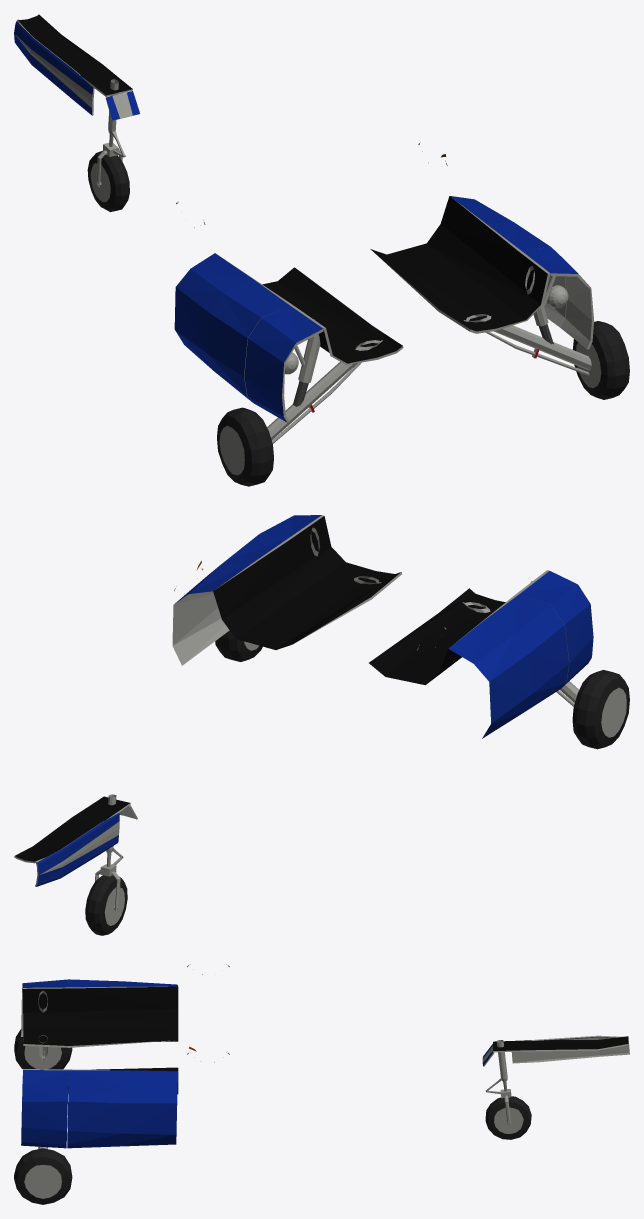
The model's file is Gear_T4_BlueimpulseNG.obj.
3 views of the same model, one above another, from view 1: azimuth 30°, elevation 25°; view 2: azimuth 150°, elevation 25°; view 3: azimuth 270°, elevation 25° (orthographic). The views are drawn at different scales.
Visible parts, largest first — view 1: ShapeIndexedFaceSet.056_ShapeIndexedFaceSet.057, ShapeIndexedFaceSet.071_ShapeIndexedFaceSet.072, ShapeIndexedFaceSet.069_ShapeIndexedFaceSet.070, ShapeIndexedFaceSet.057_ShapeIndexedFaceSet.058, ShapeIndexedFaceSet.061_ShapeIndexedFaceSet.062, ShapeIndexedFaceSet.058_ShapeIndexedFaceSet.059, ShapeIndexedFaceSet.062_ShapeIndexedFaceSet.063, ShapeIndexedFaceSet.074_ShapeIndexedFaceSet.075, ShapeIndexedFaceSet.086_ShapeIndexedFaceSet.087, ShapeIndexedFaceSet.075_ShapeIndexedFaceSet.076, ShapeIndexedFaceSet.055_ShapeIndexedFaceSet.056, ShapeIndexedFaceSet.081_ShapeIndexedFaceSet.082 (+3 smaller); view 2: ShapeIndexedFaceSet.056_ShapeIndexedFaceSet.057, ShapeIndexedFaceSet.071_ShapeIndexedFaceSet.072, ShapeIndexedFaceSet.069_ShapeIndexedFaceSet.070, ShapeIndexedFaceSet.076_ShapeIndexedFaceSet.077, ShapeIndexedFaceSet.058_ShapeIndexedFaceSet.059, ShapeIndexedFaceSet.086_ShapeIndexedFaceSet.087, ShapeIndexedFaceSet.075_ShapeIndexedFaceSet.076, ShapeIndexedFaceSet.081_ShapeIndexedFaceSet.082, ShapeIndexedFaceSet.057_ShapeIndexedFaceSet.058, ShapeIndexedFaceSet.079_ShapeIndexedFaceSet.080, ShapeIndexedFaceSet.055_ShapeIndexedFaceSet.056, ShapeIndexedFaceSet.062_ShapeIndexedFaceSet.063 (+2 smaller); view 3: ShapeIndexedFaceSet.056_ShapeIndexedFaceSet.057, ShapeIndexedFaceSet.075_ShapeIndexedFaceSet.076, ShapeIndexedFaceSet.073_ShapeIndexedFaceSet.074, ShapeIndexedFaceSet.062_ShapeIndexedFaceSet.063, ShapeIndexedFaceSet.087_ShapeIndexedFaceSet.088, ShapeIndexedFaceSet.061_ShapeIndexedFaceSet.062, ShapeIndexedFaceSet.081_ShapeIndexedFaceSet.082, ShapeIndexedFaceSet.055_ShapeIndexedFaceSet.056, ShapeIndexedFaceSet.079_ShapeIndexedFaceSet.080, ShapeIndexedFaceSet.057_ShapeIndexedFaceSet.058, ShapeIndexedFaceSet.071_ShapeIndexedFaceSet.072, ShapeIndexedFaceSet.058_ShapeIndexedFaceSet.059.
Boxes of the visible parts, x1,y1,x2,y2 form: ShapeIndexedFaceSet.056_ShapeIndexedFaceSet.057: (18, 14, 547, 363); ShapeIndexedFaceSet.071_ShapeIndexedFaceSet.072: (174, 253, 290, 401); ShapeIndexedFaceSet.069_ShapeIndexedFaceSet.070: (244, 306, 323, 422); ShapeIndexedFaceSet.057_ShapeIndexedFaceSet.058: (219, 319, 382, 475); ShapeIndexedFaceSet.061_ShapeIndexedFaceSet.062: (463, 265, 601, 388); ShapeIndexedFaceSet.058_ShapeIndexedFaceSet.059: (217, 407, 273, 486); ShapeIndexedFaceSet.062_ShapeIndexedFaceSet.063: (572, 321, 629, 399); ShapeIndexedFaceSet.074_ShapeIndexedFaceSet.075: (550, 273, 594, 349); ShapeIndexedFaceSet.086_ShapeIndexedFaceSet.087: (14, 21, 93, 115); ShapeIndexedFaceSet.075_ShapeIndexedFaceSet.076: (450, 196, 550, 249); ShapeIndexedFaceSet.055_ShapeIndexedFaceSet.056: (17, 19, 550, 364); ShapeIndexedFaceSet.081_ShapeIndexedFaceSet.082: (87, 151, 129, 212); ShapeIndexedFaceSet.056_ShapeIndexedFaceSet.057: (15, 516, 505, 861); ShapeIndexedFaceSet.071_ShapeIndexedFaceSet.072: (448, 594, 569, 738); ShapeIndexedFaceSet.069_ShapeIndexedFaceSet.070: (520, 571, 593, 686); ShapeIndexedFaceSet.076_ShapeIndexedFaceSet.077: (172, 545, 278, 665); ShapeIndexedFaceSet.058_ShapeIndexedFaceSet.059: (572, 670, 629, 749); ShapeIndexedFaceSet.086_ShapeIndexedFaceSet.087: (36, 813, 119, 886); ShapeIndexedFaceSet.075_ShapeIndexedFaceSet.076: (175, 534, 288, 603); ShapeIndexedFaceSet.081_ShapeIndexedFaceSet.082: (85, 875, 127, 935); ShapeIndexedFaceSet.057_ShapeIndexedFaceSet.058: (462, 581, 626, 737); ShapeIndexedFaceSet.079_ShapeIndexedFaceSet.080: (95, 848, 124, 925); ShapeIndexedFaceSet.055_ShapeIndexedFaceSet.056: (14, 515, 549, 863); ShapeIndexedFaceSet.062_ShapeIndexedFaceSet.063: (215, 630, 262, 661); ShapeIndexedFaceSet.056_ShapeIndexedFaceSet.057: (23, 986, 628, 1094); ShapeIndexedFaceSet.075_ShapeIndexedFaceSet.076: (67, 1070, 178, 1148); ShapeIndexedFaceSet.073_ShapeIndexedFaceSet.074: (21, 1070, 69, 1148); ShapeIndexedFaceSet.062_ShapeIndexedFaceSet.063: (14, 1148, 72, 1204); ShapeIndexedFaceSet.087_ShapeIndexedFaceSet.088: (511, 1035, 629, 1063); ShapeIndexedFaceSet.061_ShapeIndexedFaceSet.062: (24, 1146, 61, 1198); ShapeIndexedFaceSet.081_ShapeIndexedFaceSet.082: (485, 1096, 531, 1139); ShapeIndexedFaceSet.055_ShapeIndexedFaceSet.056: (23, 986, 628, 1070); ShapeIndexedFaceSet.079_ShapeIndexedFaceSet.080: (485, 1078, 523, 1133); ShapeIndexedFaceSet.057_ShapeIndexedFaceSet.058: (24, 990, 61, 1069); ShapeIndexedFaceSet.071_ShapeIndexedFaceSet.072: (68, 979, 177, 987); ShapeIndexedFaceSet.058_ShapeIndexedFaceSet.059: (14, 1029, 72, 1069).
Bounding box in the file's own units: 38.21 × 17.58 × 71.99.
